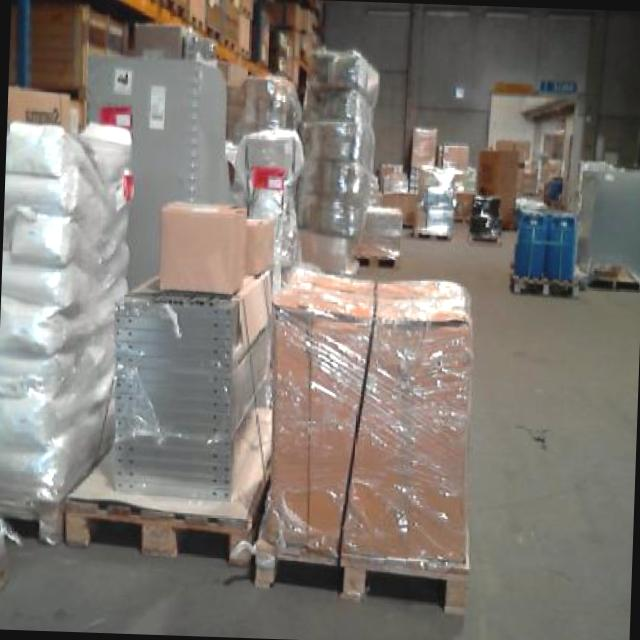pallet: (219, 546, 484, 618), (51, 500, 250, 570), (500, 268, 585, 310), (344, 242, 408, 274)
